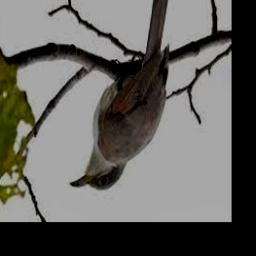Cuckoo: (69, 0, 172, 191)
